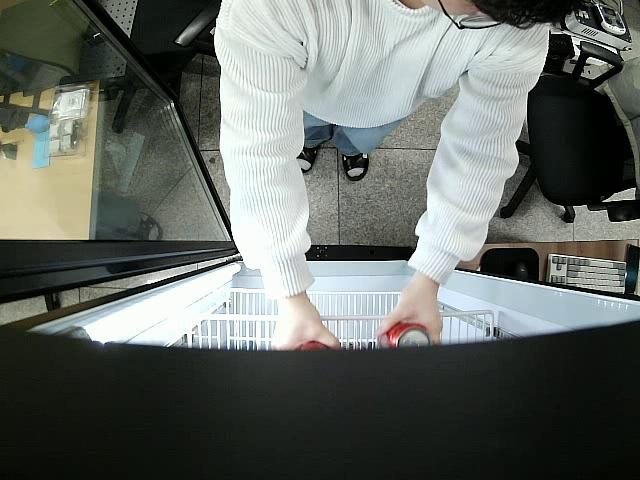00_hand: (376, 287, 444, 349)
11_cocaColaZero: (385, 319, 431, 346)
